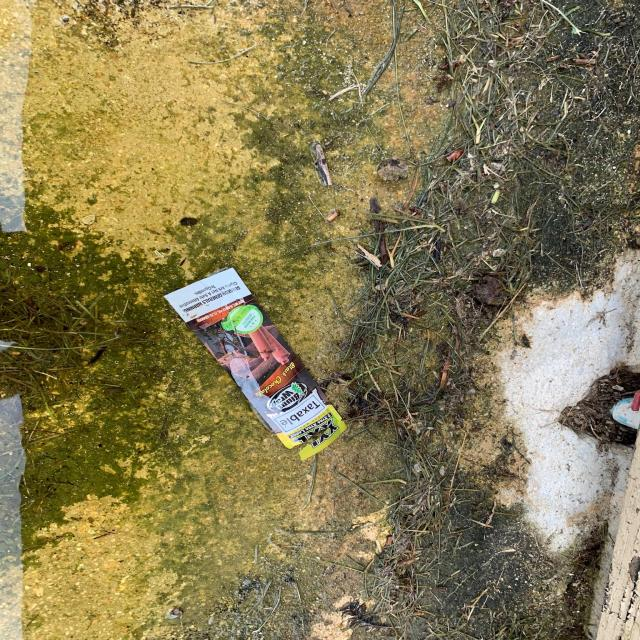litter: (150, 252, 355, 470)
